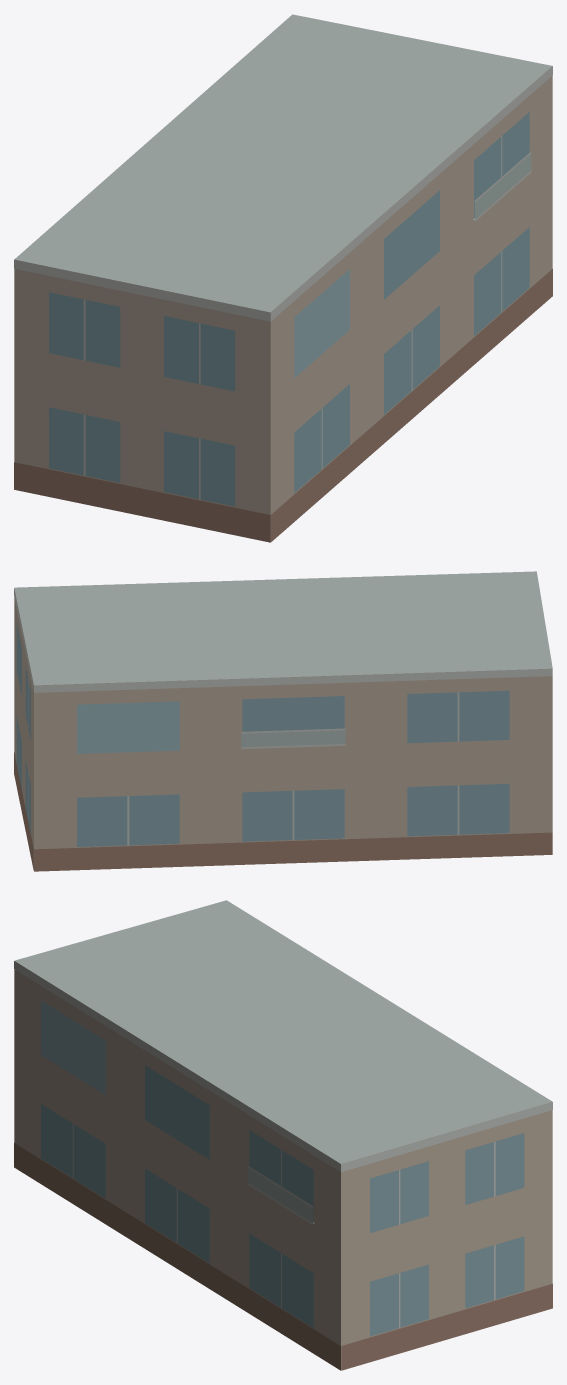
Rendered from survey-upis-32827809.glb.
3 views of the same model, one above another, from view 1: azimuth 30°, elevation 25°; view 2: azimuth 150°, elevation 25°; view 3: azimuth 270°, elevation 25° (orthographic). The views are drawn at different scales.
Visible parts, largest first — view 1: survey-upis-32827809.tmp; view 2: survey-upis-32827809.tmp; view 3: survey-upis-32827809.tmp.
Part boxes in pixels (x1,y1,x2,y2): survey-upis-32827809.tmp: [14, 14, 552, 542]; survey-upis-32827809.tmp: [14, 571, 552, 871]; survey-upis-32827809.tmp: [14, 900, 552, 1370].
Size of the model in its own units: 16.72 by 6.1 by 14.42.
